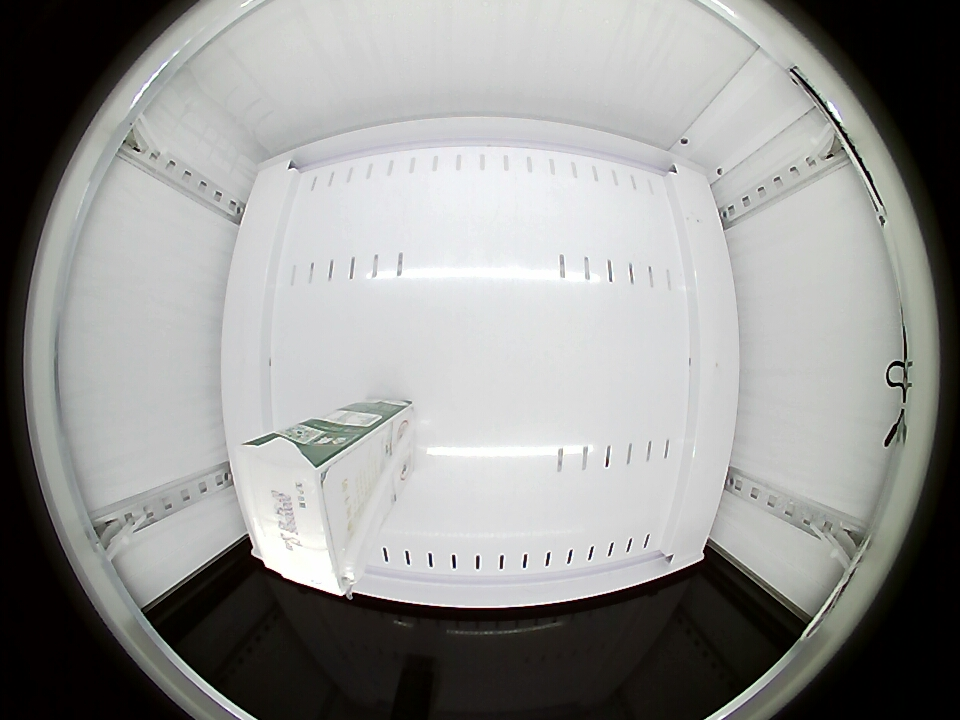jindian: (233, 426, 367, 596)
